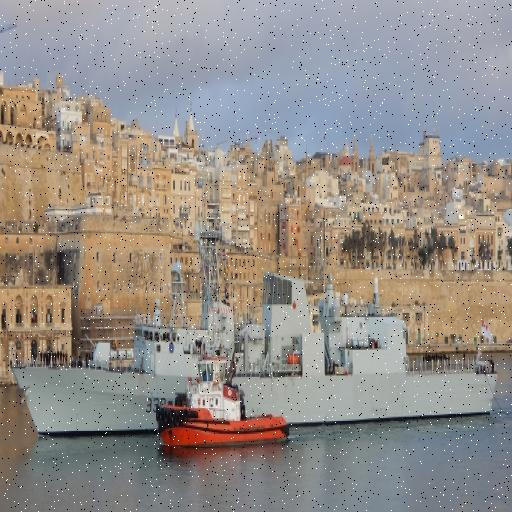Fragata: (9, 198, 498, 444)
